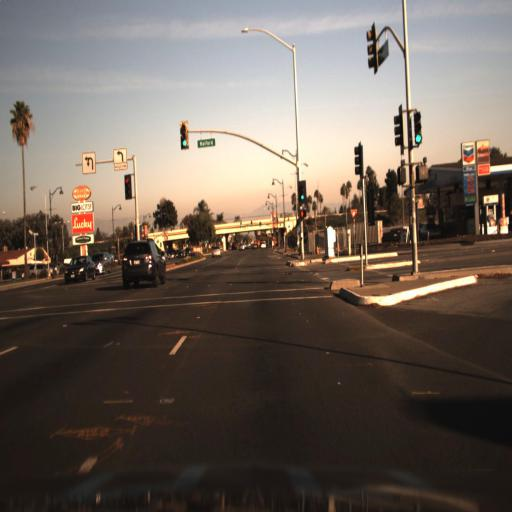car: (118, 235, 170, 290), (414, 212, 449, 247), (62, 252, 93, 285), (24, 258, 61, 282), (67, 257, 97, 282), (93, 249, 115, 276), (210, 242, 224, 260), (164, 246, 177, 262), (175, 247, 187, 261), (185, 245, 194, 259)
trafficLight-Green: (412, 107, 423, 143), (294, 180, 308, 204), (178, 117, 188, 149), (296, 177, 305, 204)
trafficLight-RedLeft: (124, 171, 131, 193)
